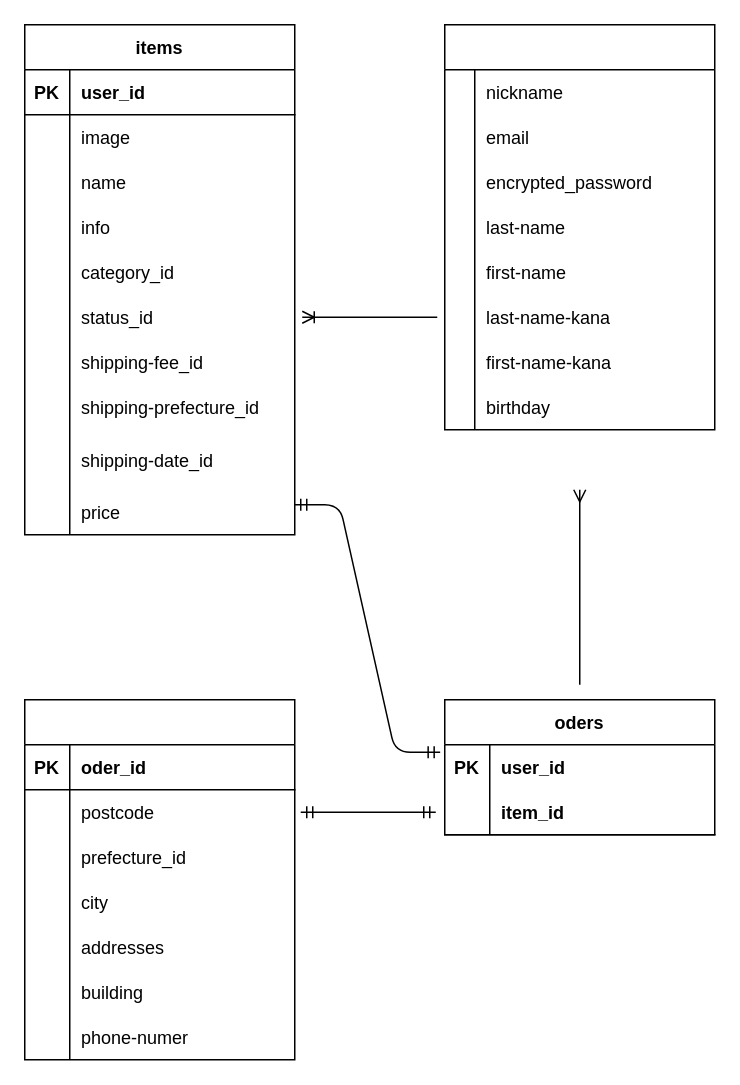
The diagram is 740 pixels wide and 1085 high, and some of its shapes have lost their labels. The box of each missing label's shape, as (x1, y1, x2, y2) in pixels:
payments: (23, 698, 295, 1060)
users: (443, 23, 715, 430)
